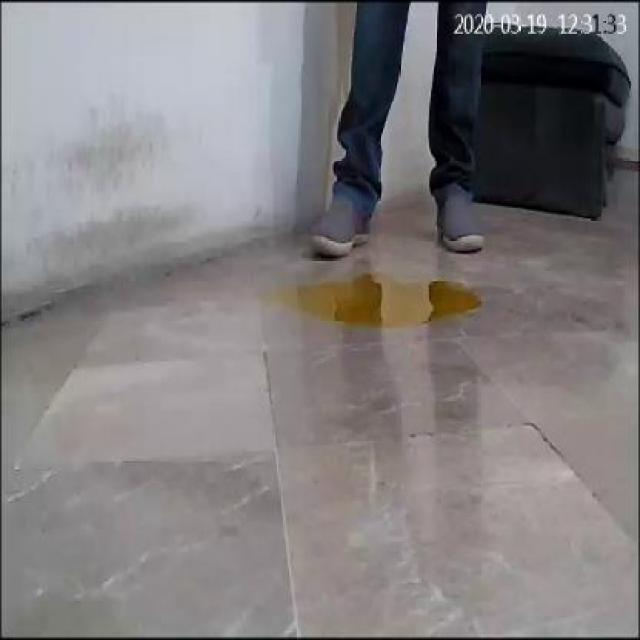spill: (264, 274, 482, 322)
